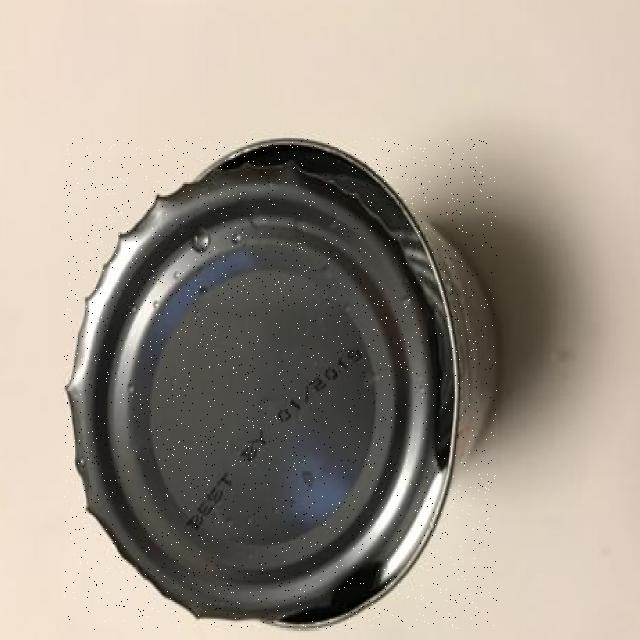metal: (65, 138, 498, 630)
